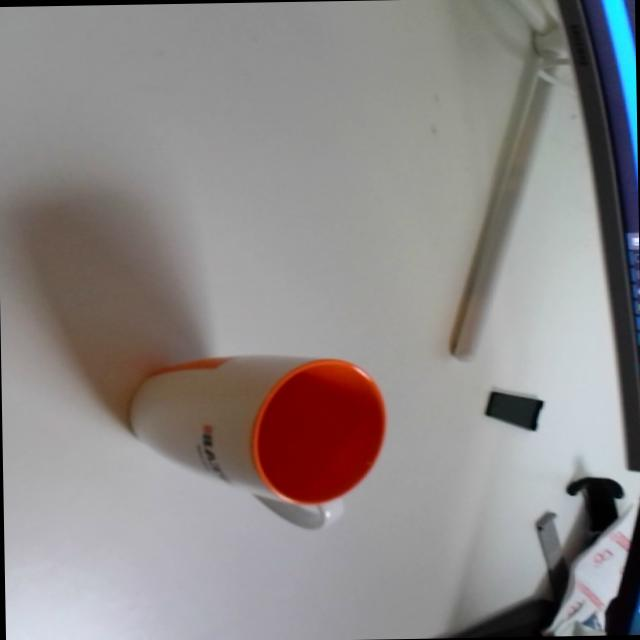White Cup: (124, 348, 391, 532)
